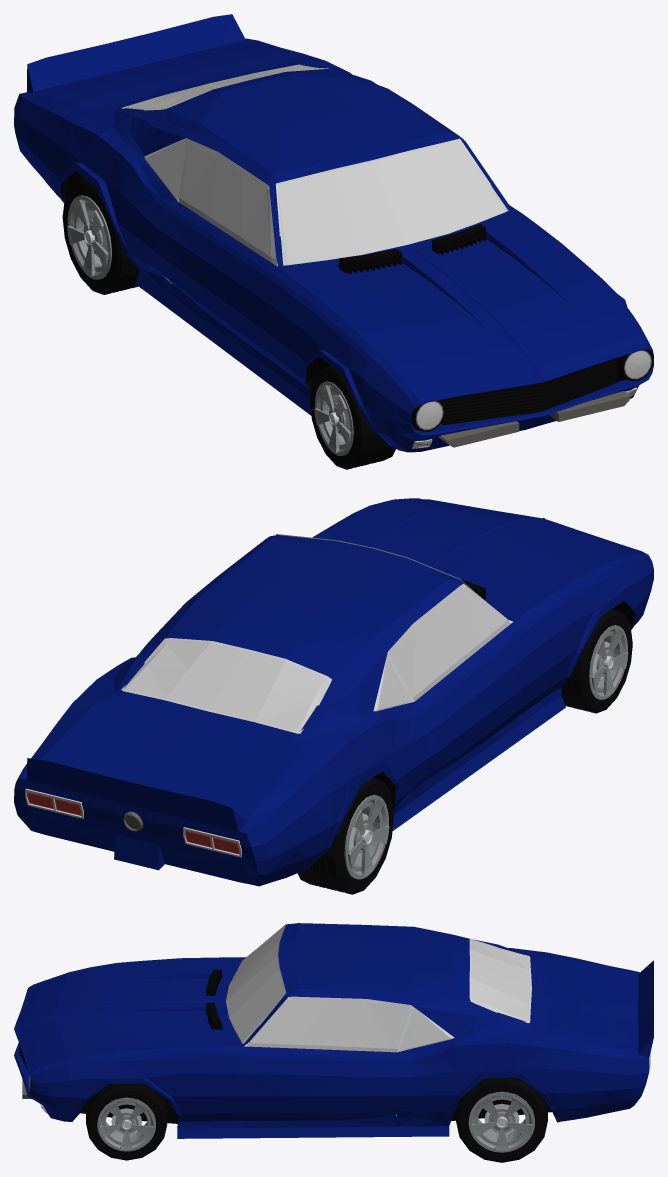
Rendered from car.obj.
3 renders of one model, top to bottom at view 1: azimuth 30°, elevation 25°; view 2: azimuth 150°, elevation 25°; view 3: azimuth 270°, elevation 25°, orthographic. The views are drawn at different scales.
Parts seen in each view (by area): view 1: Carroceria.001_Material, Parabrisas_Ad_Material.001, Pueratas_Material, Ventana_1_Material.001, Rejilla_Material.006, off, Ruedas_Ad.002_Material.007, Ruedas_Tr_Material.007, Rin_1_Tr_Material.008, Rin_1_Ad_Material.008, Parabrisas_Tr_Material.001, Faro_2_Material.003 (+3 smaller); view 2: Carroceria.001_Material, Parabrisas_Tr_Material.001, Pueratas_Material, Ventana_1_Material.001, Ruedas_Tr_Material.007, Ruedas_Ad.002_Material.007, Rin_1_Tr_Material.008, Rin_1_Ad_Material.008, Luz_Tr_Material.012, Marco_Parabrisad_Tr_Material.002, Luz_Tr_Material.011, Ventana_2_Material.001; view 3: Carroceria.001_Material, Pueratas_Material, Ventana_1_Material.001, Parabrisas_Ad_Material.001, Parabrisas_Tr_Material.001, Ruedas_Tr.001_Material.007, Ruedas_Ad.001_Material.007, Rin_1_Tr.001_Material.008, Rin_1_Ad.001_Material.008, Ventana_2_Material.001, off, Carroceria.001_Material.014 (+3 smaller).
Boxes of the visible parts, box(x1,y1,x2,y2) form: Carroceria.001_Material: box(14, 14, 653, 452); Parabrisas_Ad_Material.001: box(277, 140, 507, 264); Pueratas_Material: box(156, 202, 519, 367); Ventana_1_Material.001: box(178, 138, 277, 266); Rejilla_Material.006: box(441, 358, 617, 425); off: box(339, 224, 630, 447); Ruedas_Ad.002_Material.007: box(310, 365, 395, 469); Ruedas_Tr_Material.007: box(62, 178, 139, 294); Rin_1_Tr_Material.008: box(67, 195, 111, 279); Rin_1_Ad_Material.008: box(314, 381, 353, 455); Parabrisas_Tr_Material.001: box(124, 65, 326, 109); Faro_2_Material.003: box(417, 351, 650, 428); Carroceria.001_Material: box(14, 498, 653, 886); Parabrisas_Tr_Material.001: box(124, 639, 329, 731); Pueratas_Material: box(415, 622, 540, 780); Ventana_1_Material.001: box(388, 583, 511, 701); Ruedas_Tr_Material.007: box(297, 778, 393, 894); Ruedas_Ad.002_Material.007: box(561, 609, 632, 713); Rin_1_Tr_Material.008: box(344, 794, 389, 879); Rin_1_Ad_Material.008: box(589, 625, 628, 699); Luz_Tr_Material.012: box(27, 792, 239, 854); Marco_Parabrisad_Tr_Material.002: box(121, 638, 331, 733); Luz_Tr_Material.011: box(25, 788, 241, 857); Ventana_2_Material.001: box(377, 659, 411, 709); Carroceria.001_Material: box(14, 923, 653, 1138); Pueratas_Material: box(230, 957, 396, 1120); Ventana_1_Material.001: box(245, 996, 411, 1052); Parabrisas_Ad_Material.001: box(226, 925, 285, 1043); Parabrisas_Tr_Material.001: box(471, 939, 530, 1021); Ruedas_Tr.001_Material.007: box(456, 1077, 547, 1162); Ruedas_Ad.001_Material.007: box(86, 1083, 167, 1160); Rin_1_Tr.001_Material.008: box(468, 1091, 534, 1152); Rin_1_Ad.001_Material.008: box(97, 1097, 155, 1151); Ventana_2_Material.001: box(400, 1010, 450, 1049); off: box(22, 969, 221, 1098); Carroceria.001_Material.014: box(80, 1098, 551, 1123).
Size of the model in its own units: 3.92 by 2.68 by 9.85.
